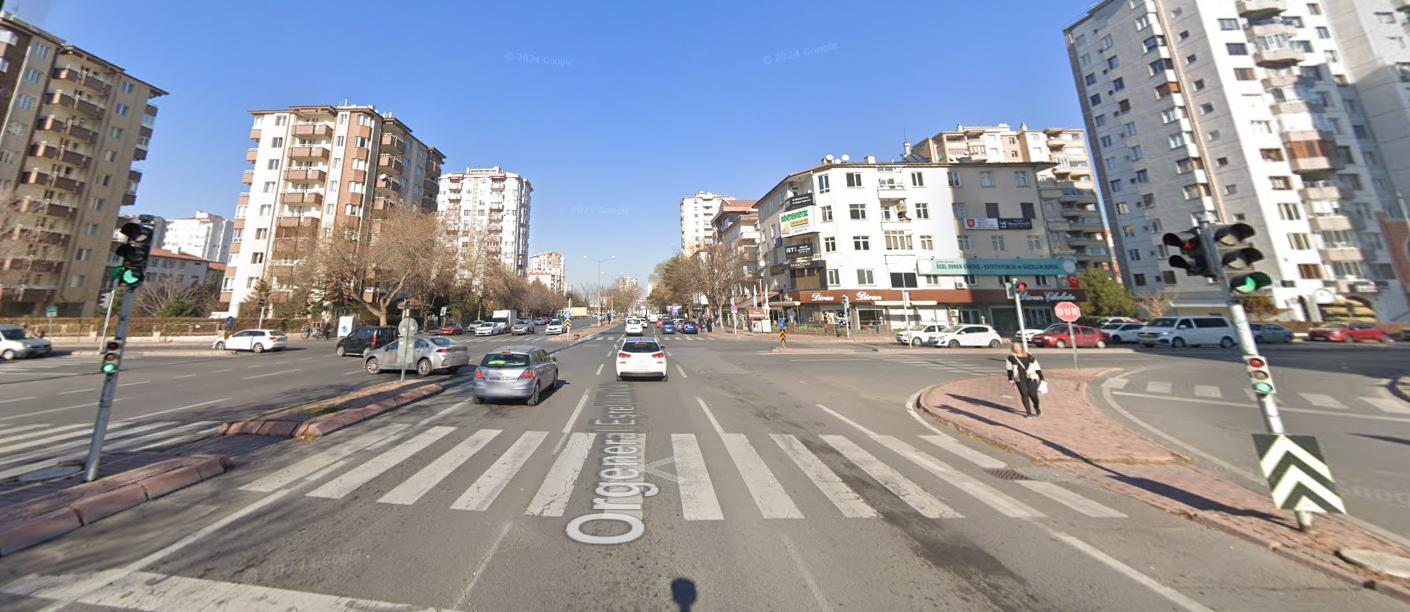greenlight: (1208, 218, 1269, 303), (119, 220, 151, 291)
stop: (1056, 299, 1080, 322)
